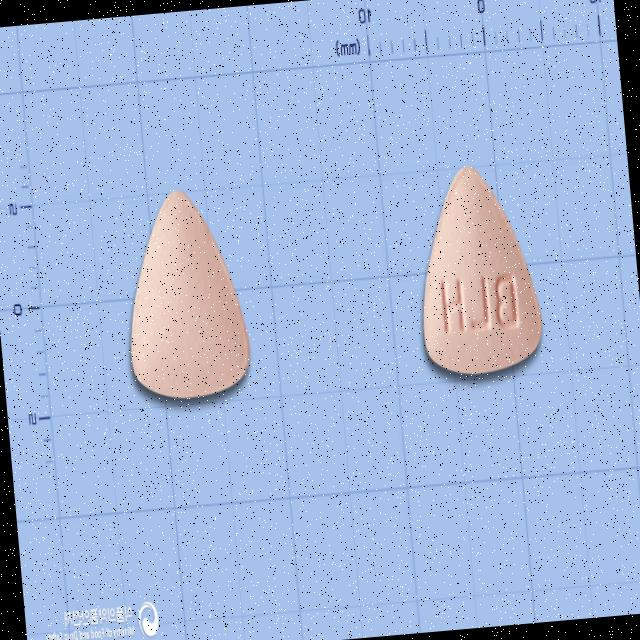Baracle: (402, 156, 550, 388), (111, 182, 256, 412)
